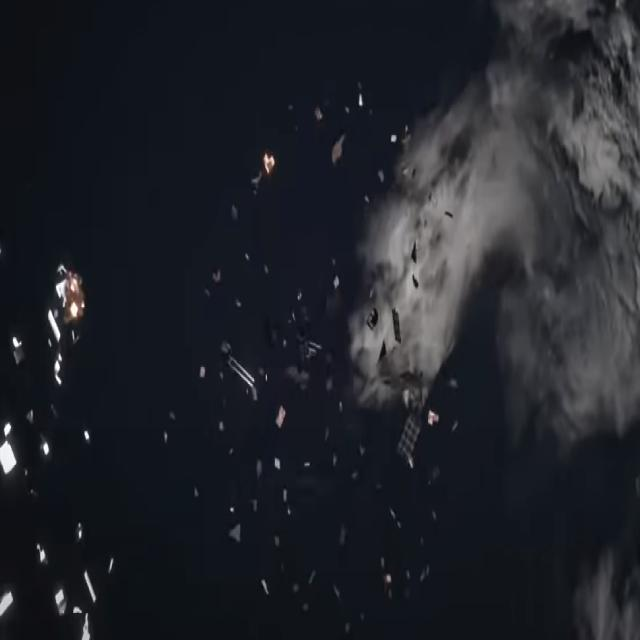large_debris: (184, 0, 197, 115)
